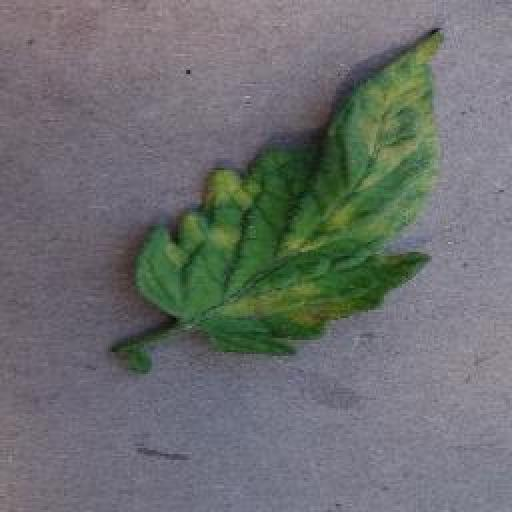disease_tomato: (134, 29, 443, 359)
